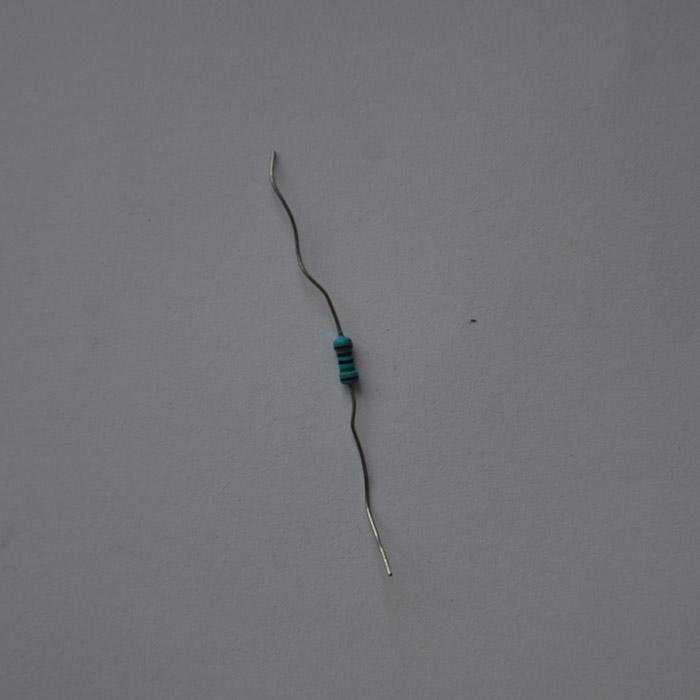resistor: (331, 331, 359, 389)
